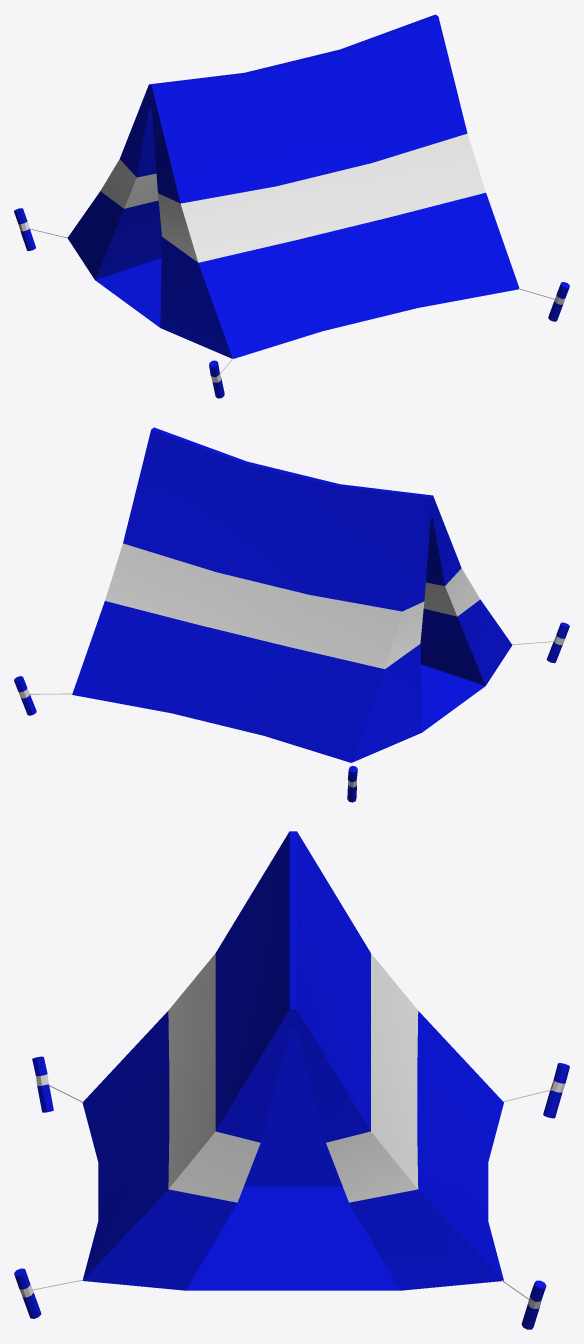
Rendered from Tent.fbx.
3 views of the same model, one above another, from view 1: azimuth 30°, elevation 25°; view 2: azimuth 150°, elevation 25°; view 3: azimuth 270°, elevation 25° (orthographic). The views are drawn at different scales.
Visible parts, largest first — view 1: Tent; view 2: Tent; view 3: Tent.
Part boxes in pixels (x1,y1,x2,y2): Tent: (14, 14, 569, 398); Tent: (14, 427, 569, 802); Tent: (14, 831, 569, 1329).
Bounding box in the file's own units: 2.6 × 1.56 × 2.64.
